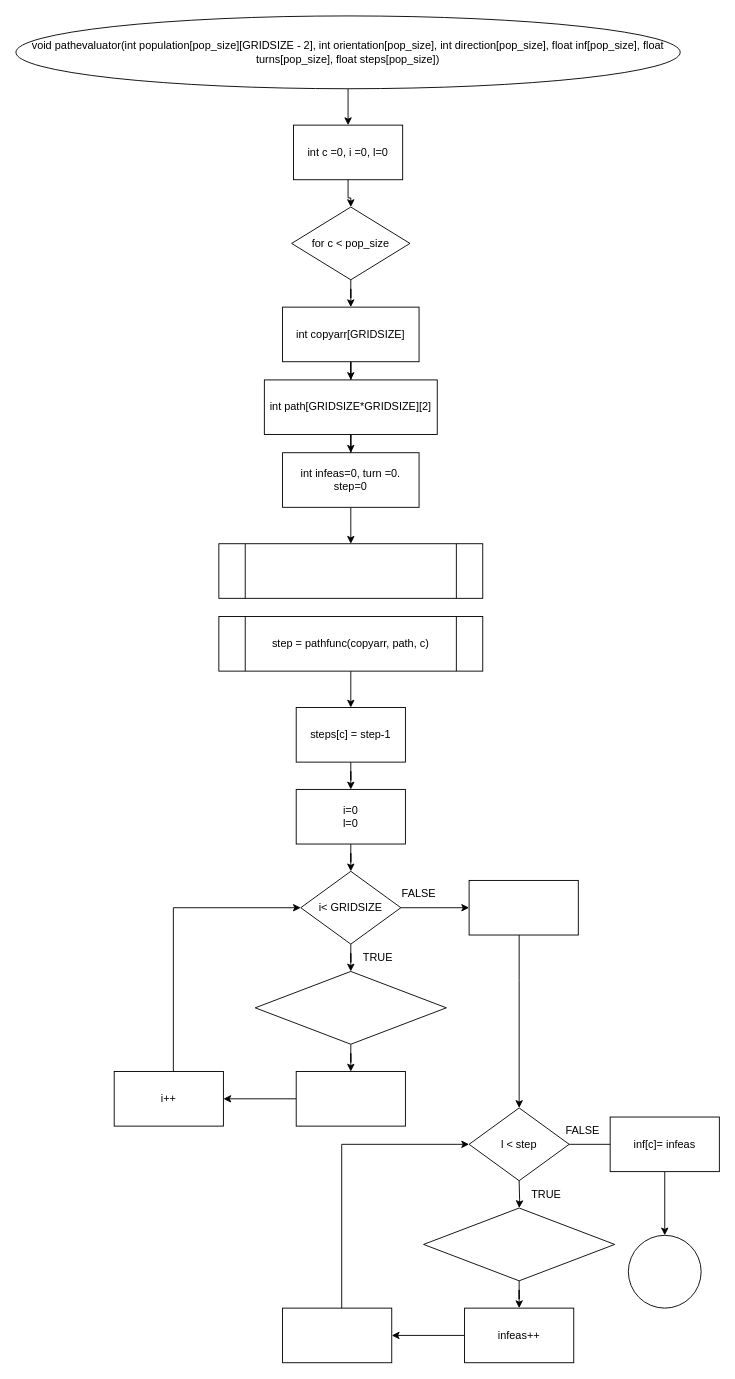
This 735x1379 diagram has some shape labels left out. Here are the shapes that lost their labels. From the top down, the box of each, then its label:
(218, 543, 483, 598): copymaker(copyarr, population[c])
(468, 880, 578, 935): turn[c]= turn
(254, 971, 446, 1044): if(copyarr[i] != copyarr[i+1]
(295, 1071, 405, 1126): turn++
(423, 1207, 615, 1281): if(grid[path[l][0]][path[l][1]]==1
(627, 1234, 701, 1308): EXIT
(282, 1307, 392, 1363): l++
